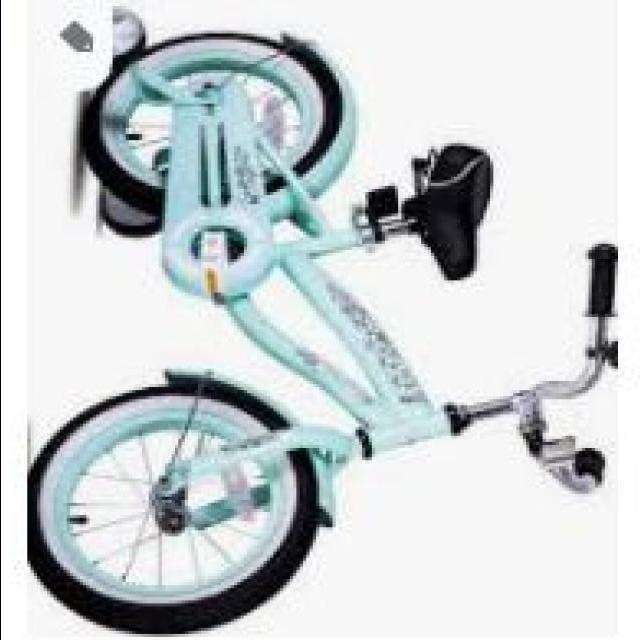bicycle: (30, 31, 618, 631)
